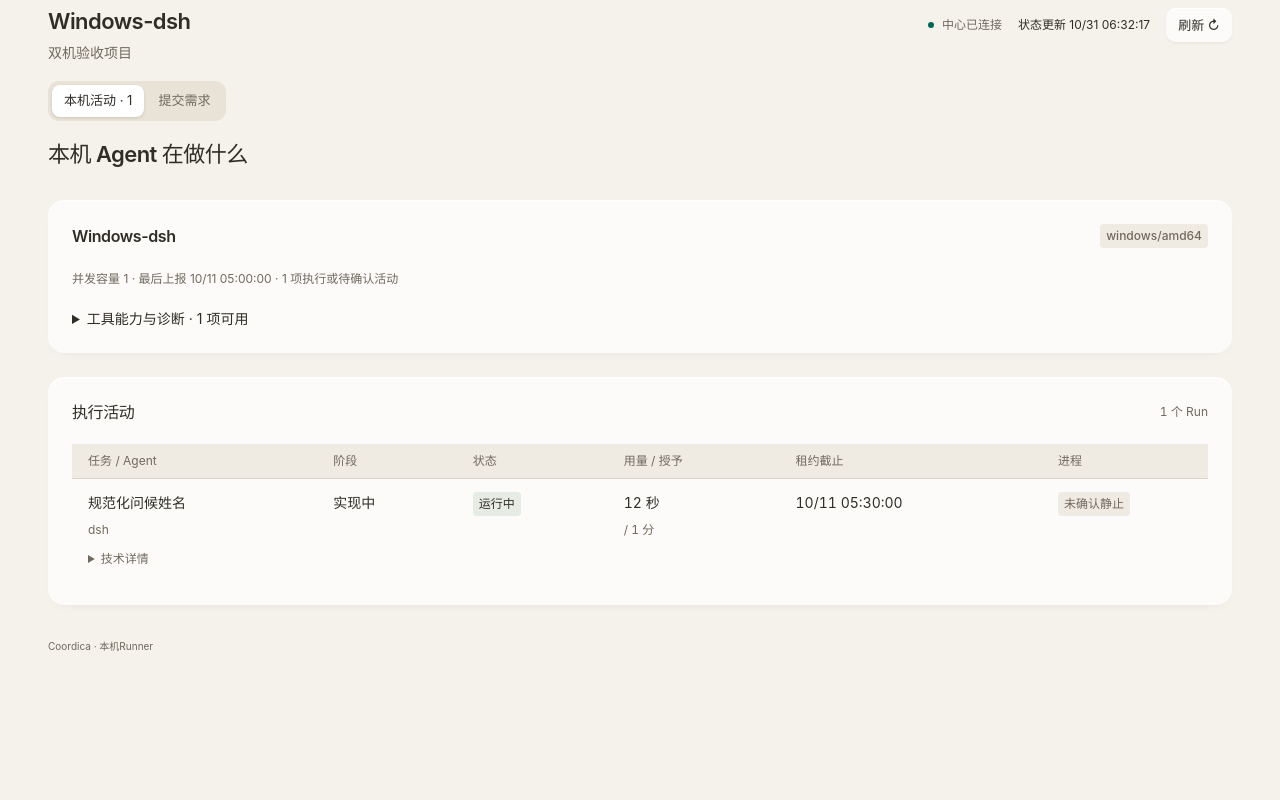
local Runner workbench › shows actual local execution and keeps the last state visibly stale when disconnected
Expected: the text "规范化问候姓名" is shown, left=88, top=494, right=186, bottom=511
Expected: the text "实现中" is shown, left=317, top=478, right=457, bottom=581
Click the button "刷新 ↻" at (1199, 25), box left=1166, top=8, right=1232, bottom=42
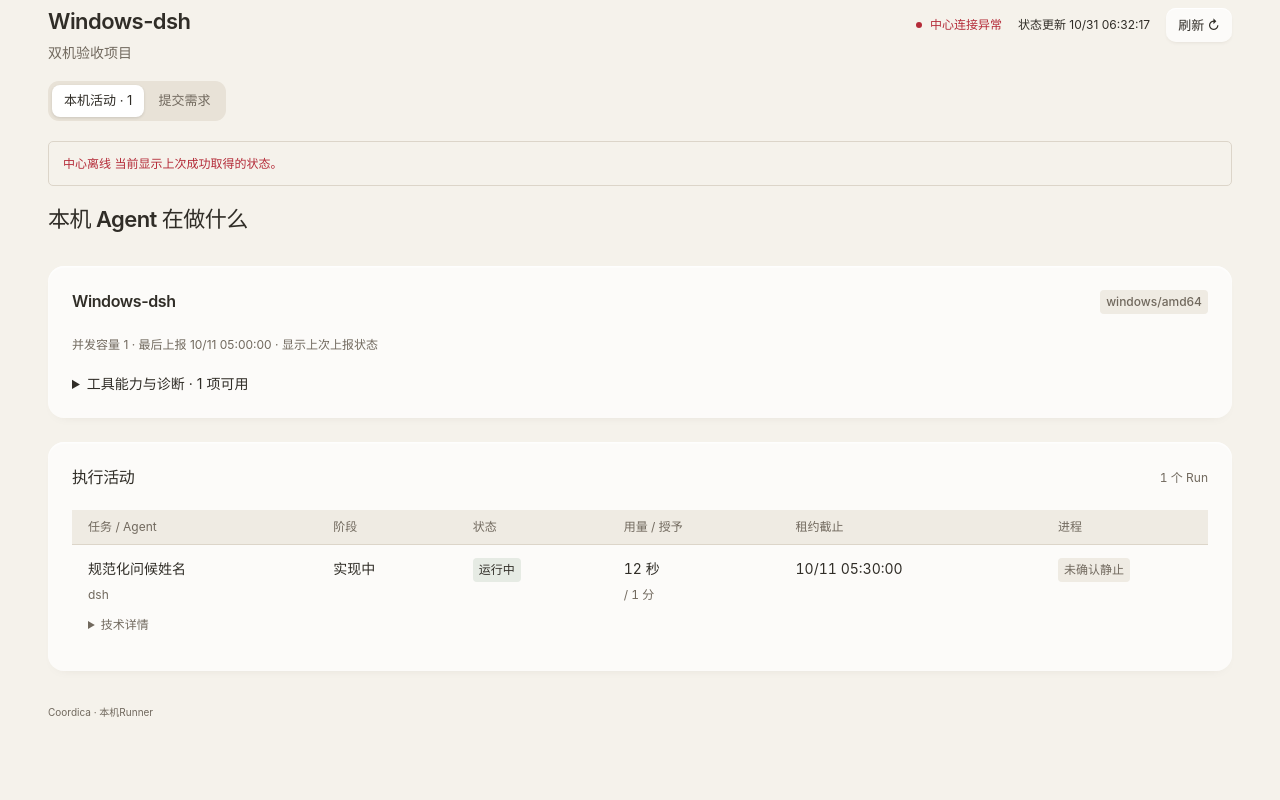
Expected: the text "规范化问候姓名" is shown, left=88, top=560, right=186, bottom=577
Now the message "中心离线 当前显示上次成功取得的状态。" is shown, box left=48, top=141, right=1232, bottom=186
Now the message shows "上次成功取得的状态", box left=63, top=156, right=282, bottom=171
